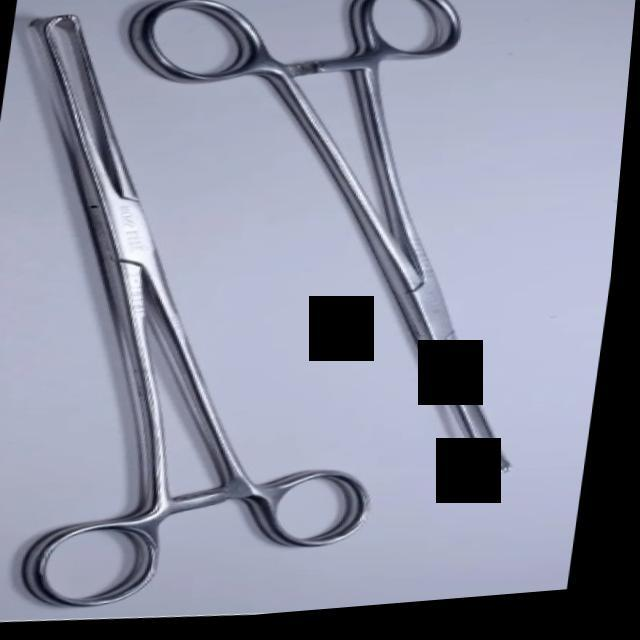Allis Forceps: (78, 0, 640, 527), (0, 0, 448, 635)
